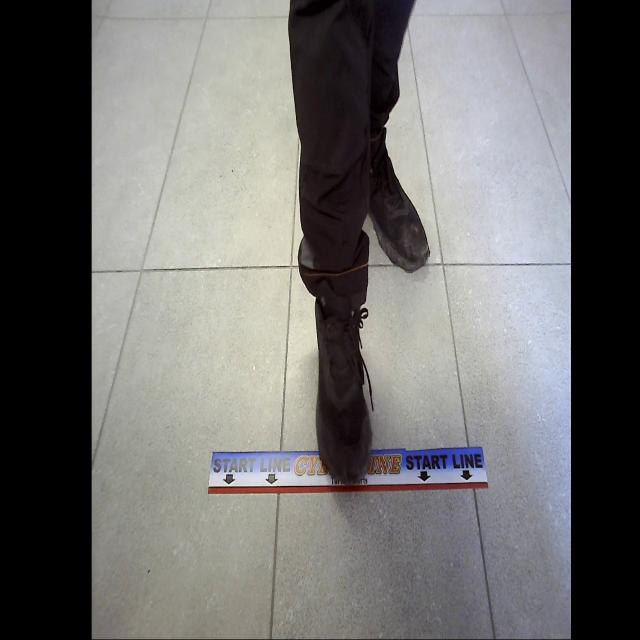foot: (312, 292, 374, 486), (367, 128, 430, 272)
